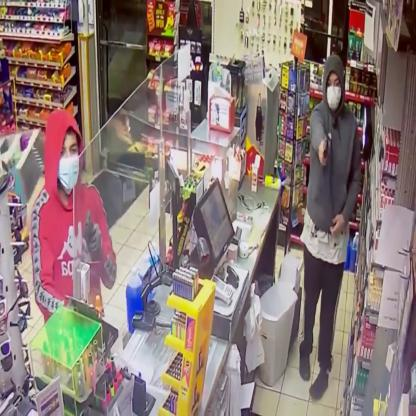Pistol: (73, 206, 105, 250), (314, 131, 340, 175)
